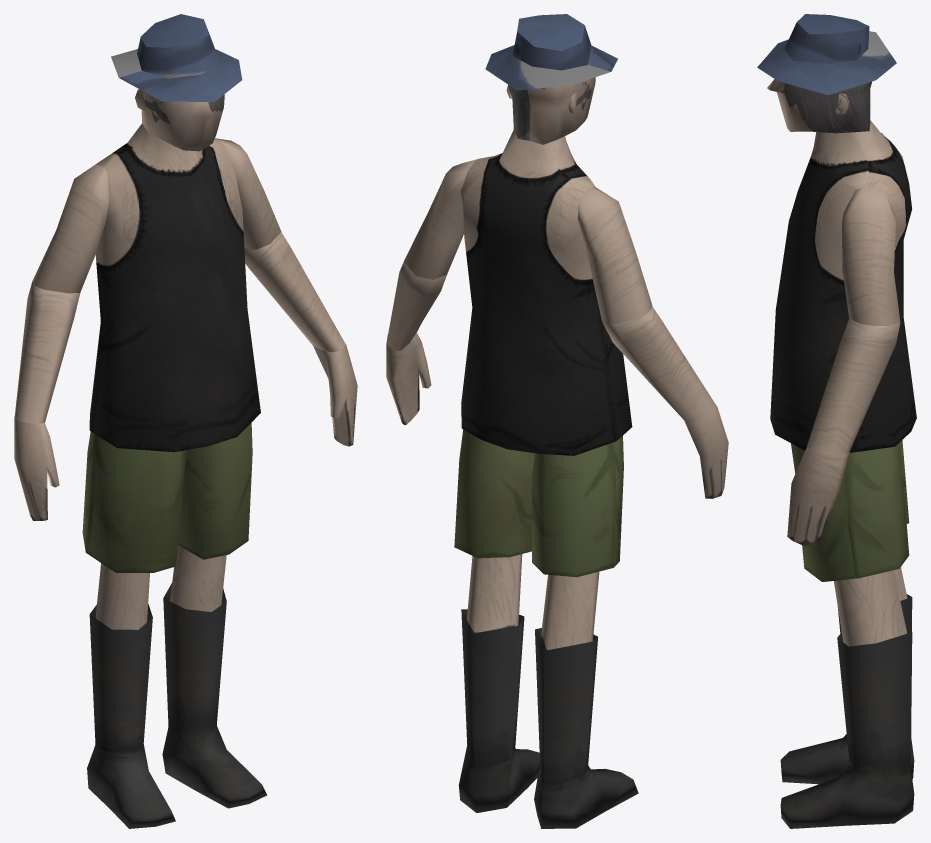
File: Male_Base_Working2.fbx
3 renders of one model, left to right at view 1: azimuth 30°, elevation 25°; view 2: azimuth 150°, elevation 25°; view 3: azimuth 270°, elevation 25°, orthographic.
Parts seen in each view (by area): view 1: Hat2; view 2: Hat2; view 3: Hat2.
Part boxes in pixels (x1,y1,x2,y2): Hat2: (14, 14, 357, 828); Hat2: (386, 14, 728, 828); Hat2: (757, 14, 916, 828).
Size of the model in its own units: 11.07 by 24.33 by 4.54.
